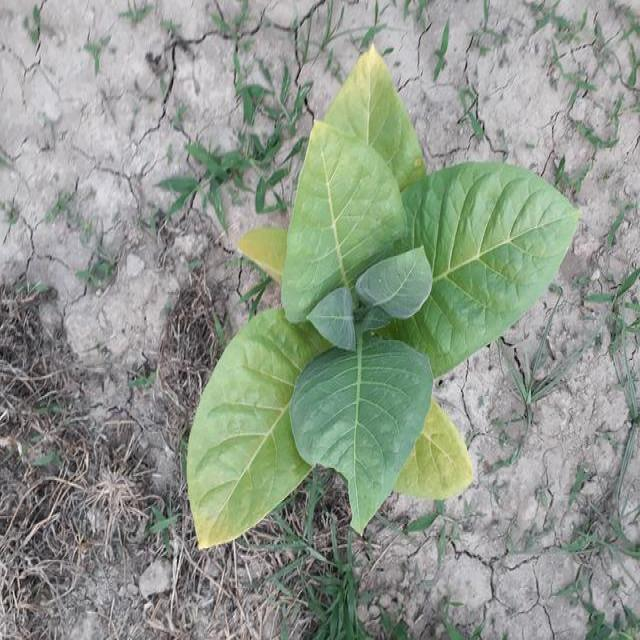crop: (186, 44, 580, 555)
